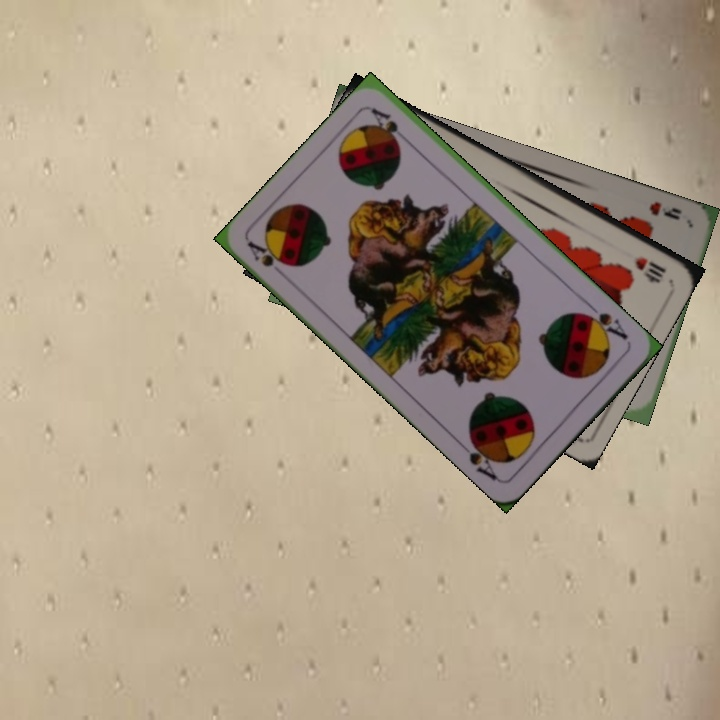H10: (630, 252, 669, 284)
H9: (644, 197, 684, 223)
SA: (577, 299, 631, 344), (243, 237, 294, 271)
